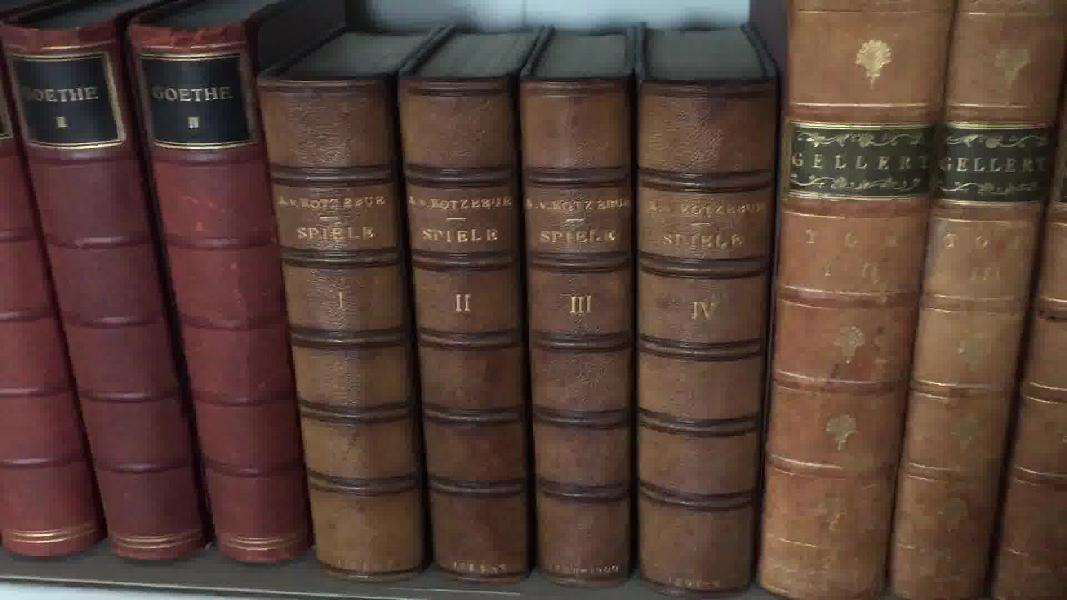Aa6-14_17: (243, 65, 765, 600)
